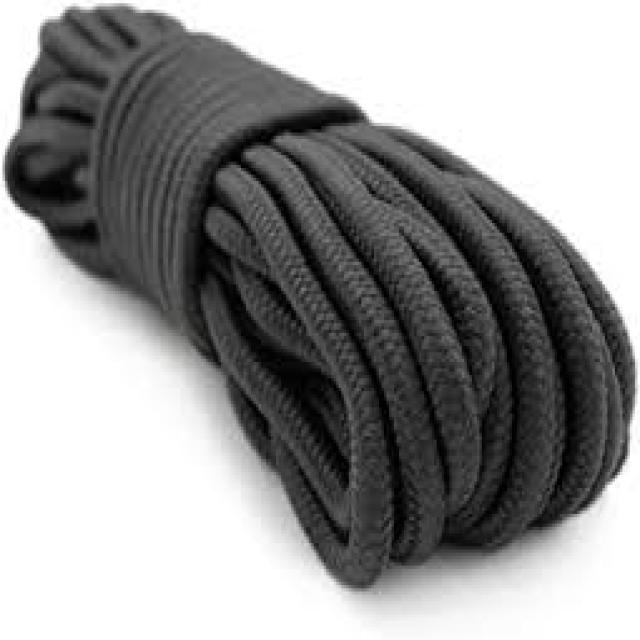rope: (3, 6, 637, 592)
